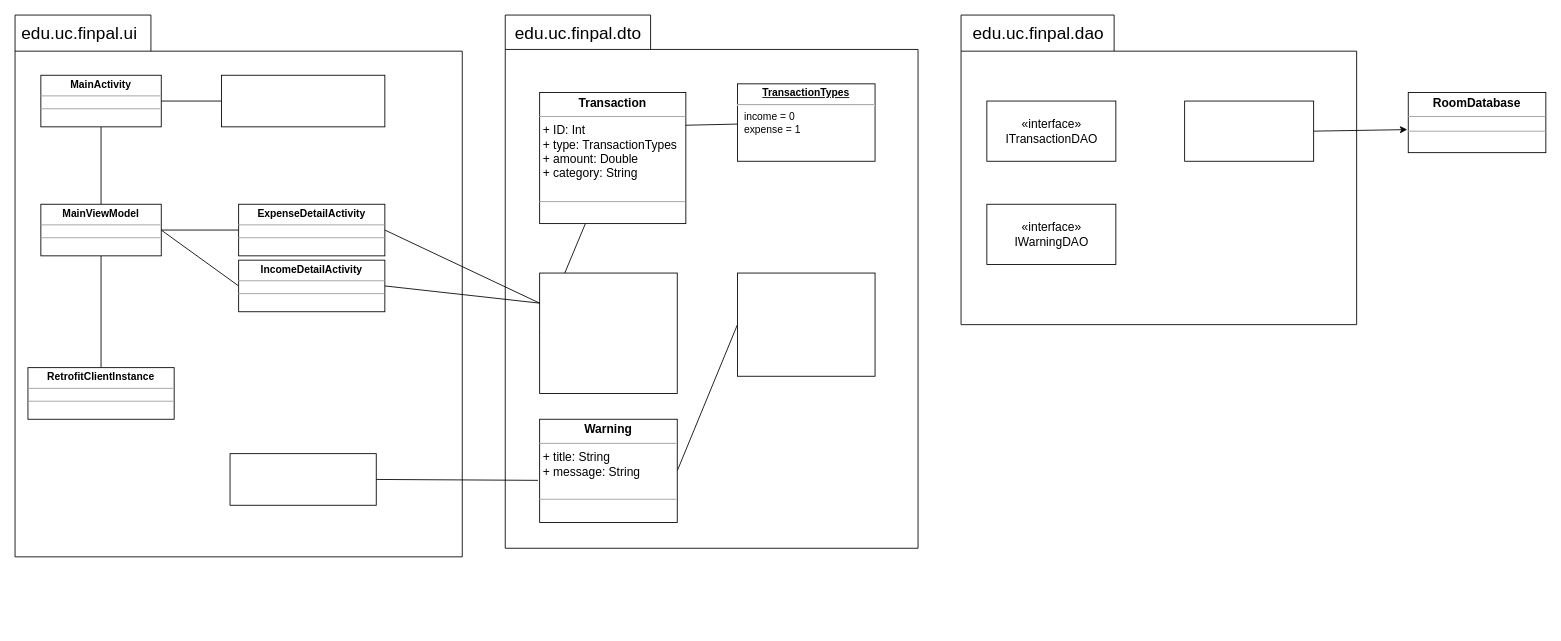
This 1561x641 diagram has some shape labels left out. Here are the shapes that lost their labels. From the top down, the centre of each, then its label:
[303,100]: ContextAwareViewModel
[1249,130]: AppDatabase
[608,332]: Category + name: String + type: Int + total: Double
[806,324]: Limit + maxAmt: Double + message: String
[302,479]: NotificationDetailActivity
